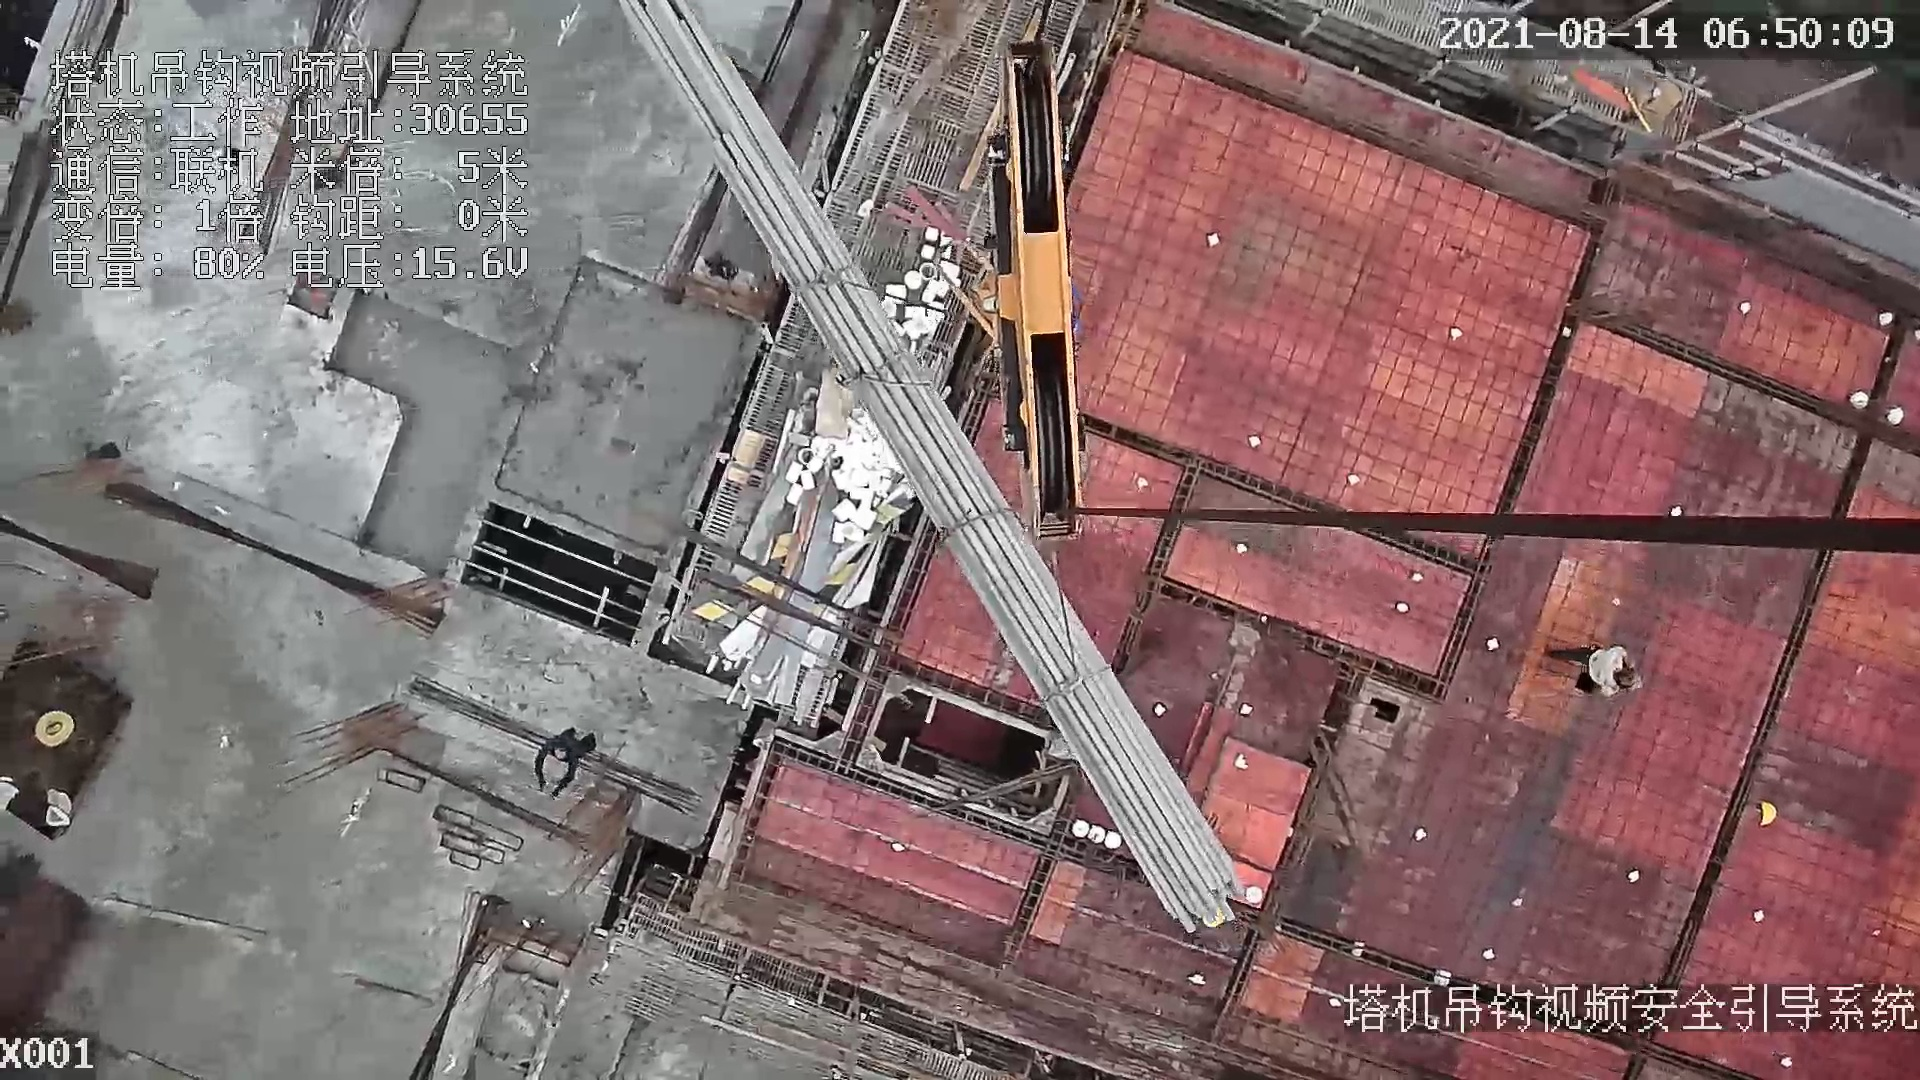helmet: (1755, 794, 1794, 829)
hook: (933, 36, 1095, 550)
person: (1544, 635, 1646, 701), (535, 723, 599, 803)
